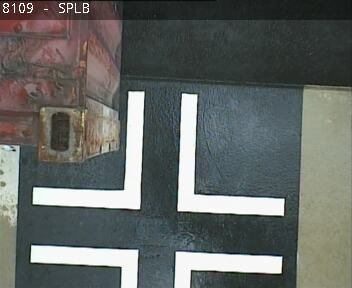groundmarker_1: (32, 92, 285, 216), (30, 244, 282, 288)
